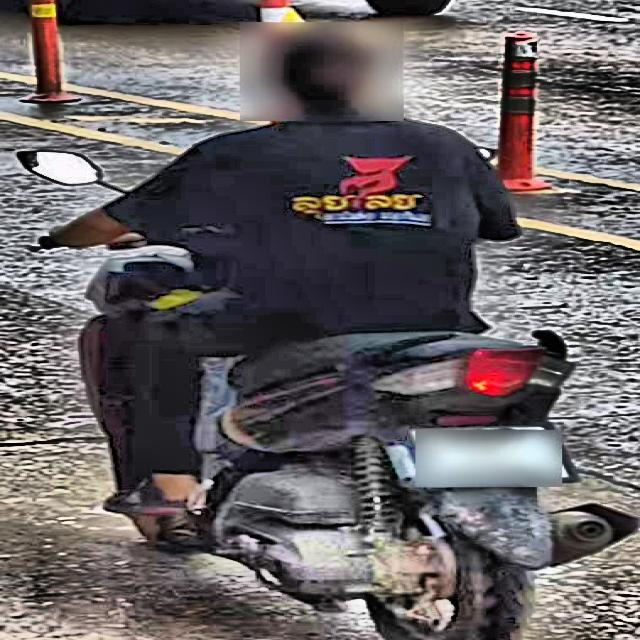motorcycle: (20, 135, 640, 640)
